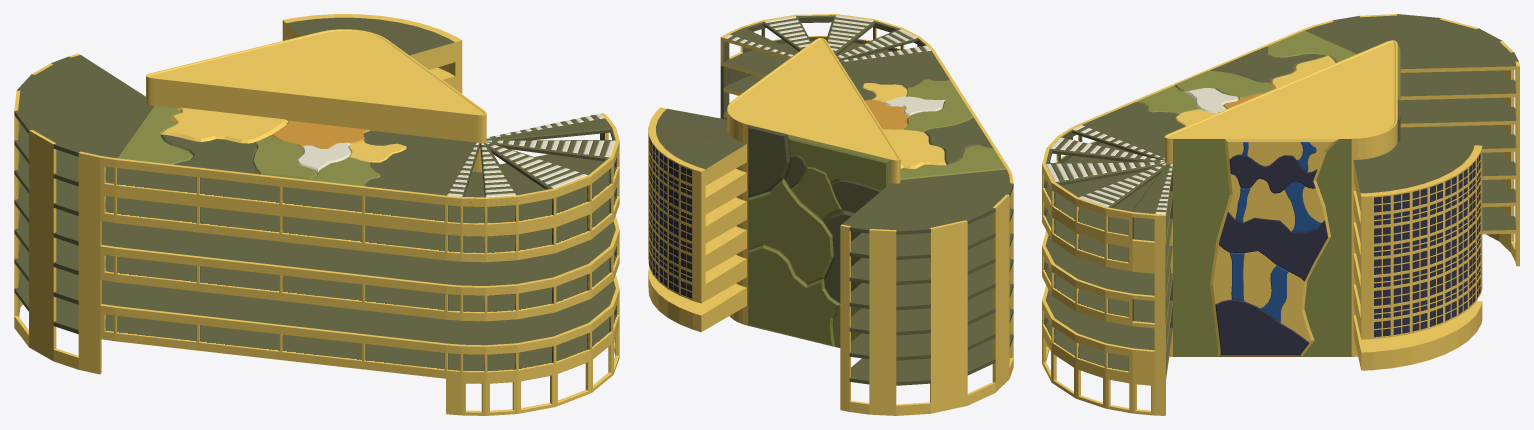
The picture shows the model from 3 angles, left to right: view 1: azimuth 30°, elevation 25°; view 2: azimuth 150°, elevation 25°; view 3: azimuth 270°, elevation 25°; orthographic projection. The views are drawn at different scales.
Parts seen in each view (by area): view 1: Cube.002, Cube.004, Cube.003, Cube.001, Cube.005; view 2: Cube.002, Cube.004; view 3: Cube.002, Cube.004, Cube.003, Cube.005, Cube.001, Cube.012, Cube.006.
Boxes of the visible parts, x1=… form: Cube.002: x1=14, y1=14, x2=619, y2=415; Cube.004: x1=100, y1=146, x2=619, y2=228; Cube.003: x1=100, y1=234, x2=619, y2=317; Cube.001: x1=100, y1=293, x2=619, y2=376; Cube.005: x1=100, y1=175, x2=619, y2=257; Cube.002: x1=648, y1=14, x2=1013, y2=415; Cube.004: x1=740, y1=19, x2=922, y2=52; Cube.002: x1=1042, y1=14, x2=1519, y2=415; Cube.004: x1=1042, y1=133, x2=1133, y2=240; Cube.003: x1=1042, y1=250, x2=1133, y2=322; Cube.005: x1=1042, y1=195, x2=1132, y2=267; Cube.001: x1=1042, y1=304, x2=1132, y2=376; Cube.012: x1=1132, y1=353, x2=1154, y2=378; Cube.006: x1=1132, y1=244, x2=1154, y2=269.
Bounding box in the file's own units: 3.97 × 2.07 × 3.97.
1 material, 1 textured.
